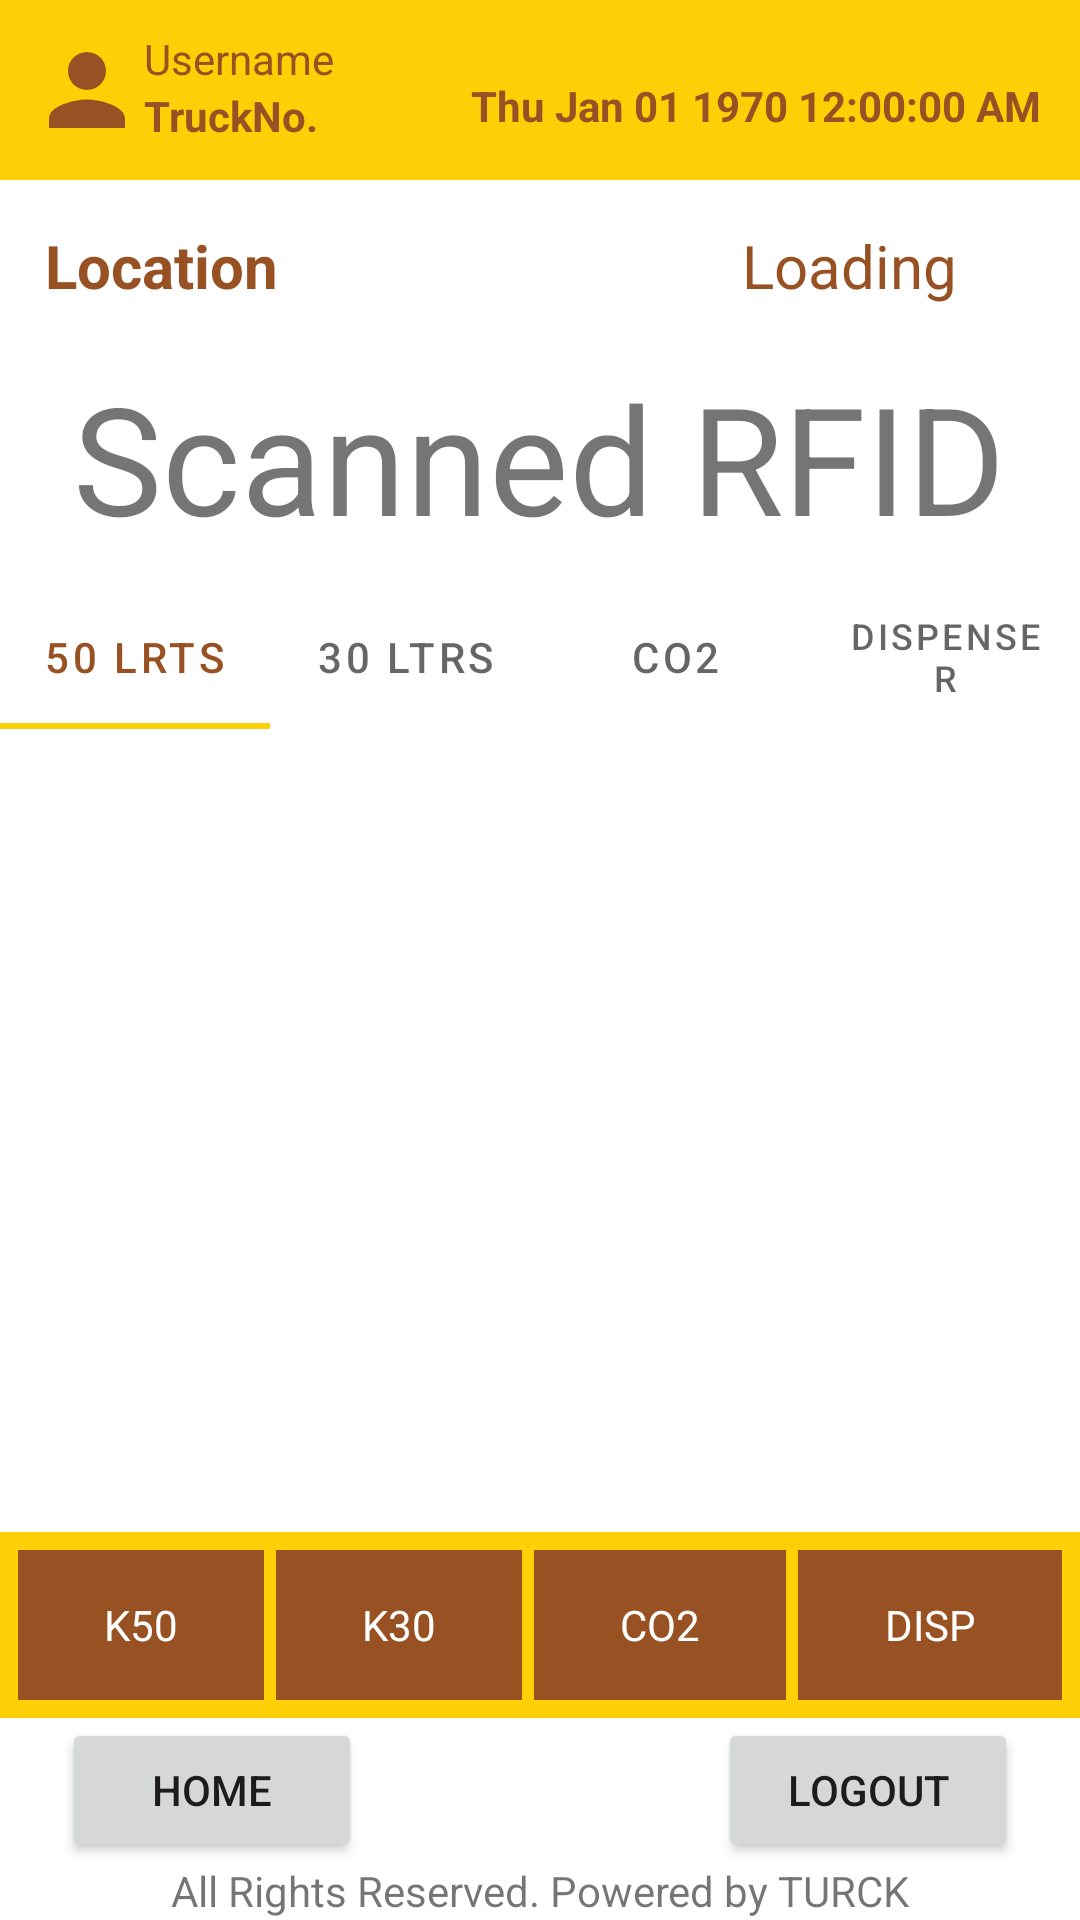

Screen size 1080×1920. Icon name, then its center in pixels as (x=x, y=y):
person: (x=87, y=90)
